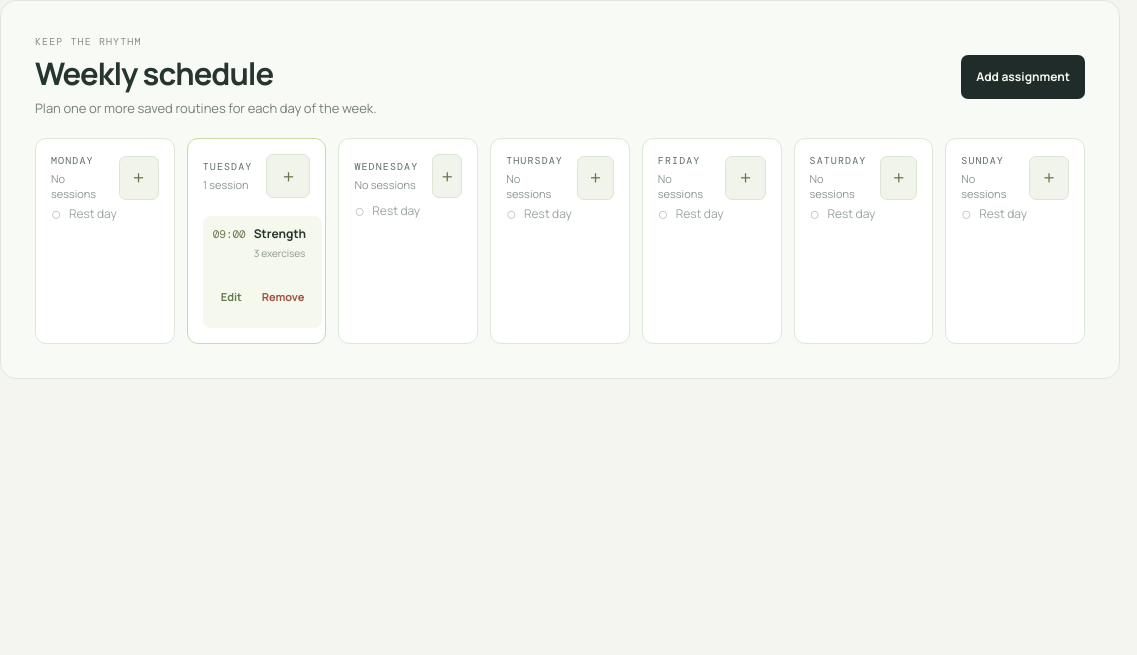
ScheduleEditor › edits an existing assignment without creating a second entry
Click the button with aria-label "Edit Tuesday assignment".
click(231, 296)  # box [213,274,250,318]
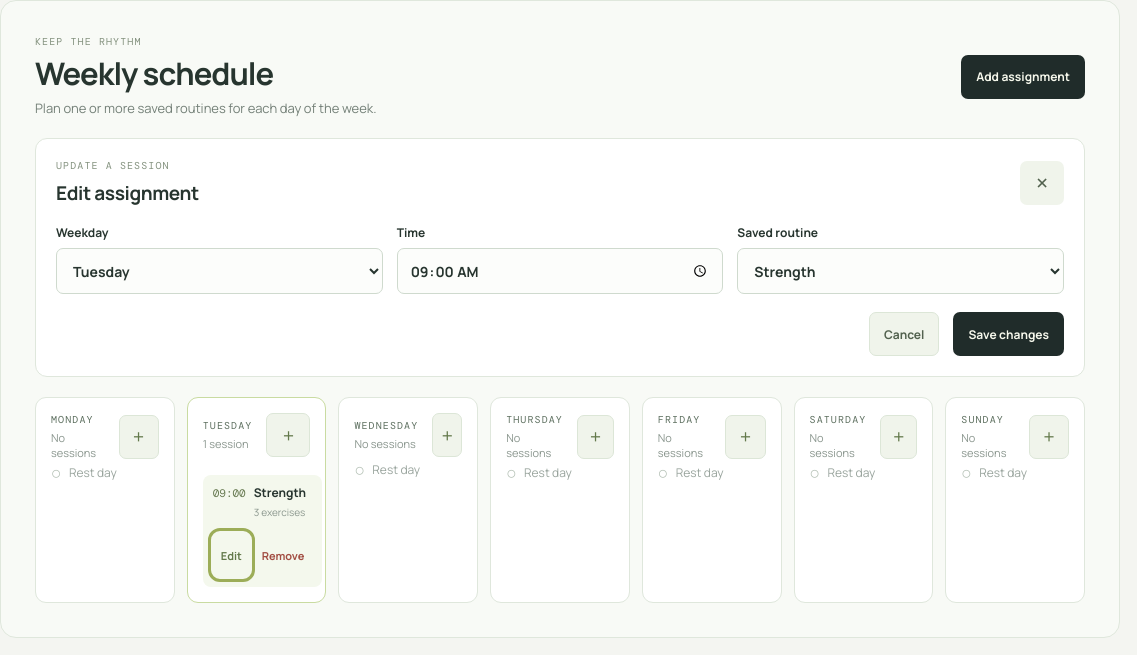
Replace the text in the time field labelled "Time" with "20:15" at (560, 271), box [397,248,723,294]
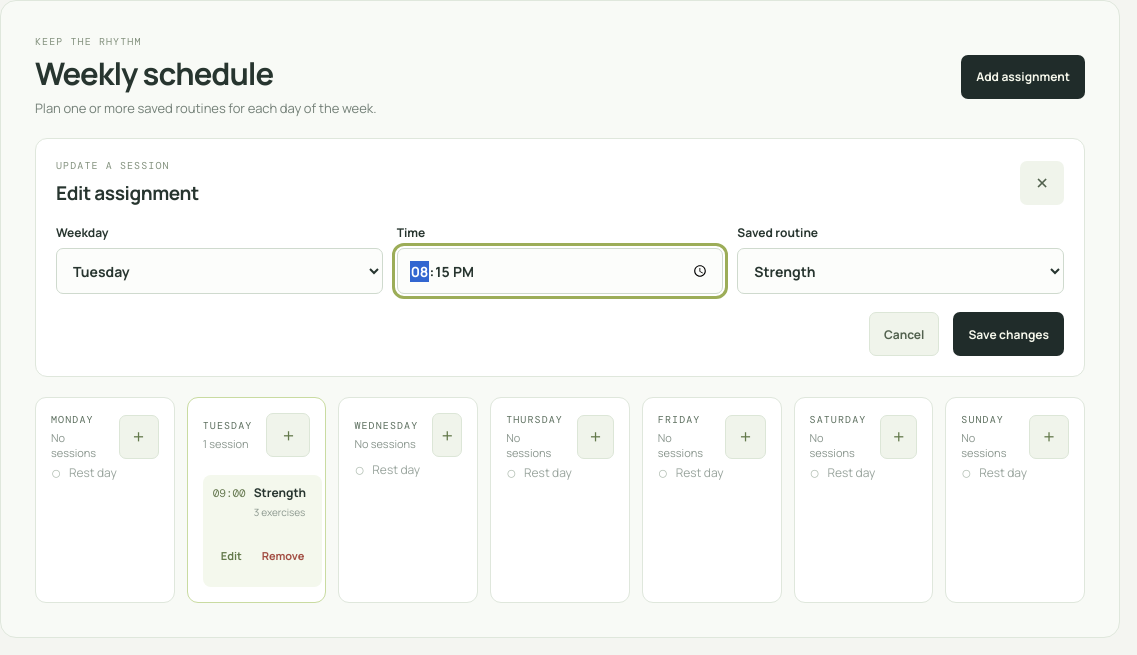
Select "Mobility" in the dropdown labelled "Saved routine" at (901, 271), box [737,248,1064,294]
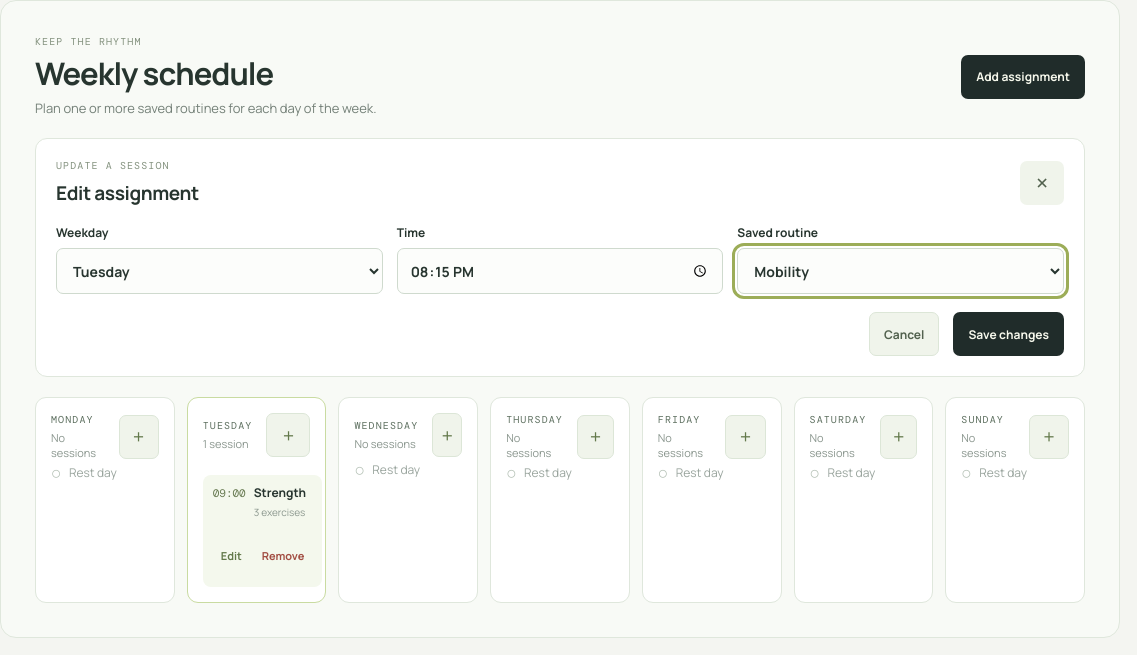
Click the button "Save changes".
click(1009, 334)  # box [954,312,1064,356]
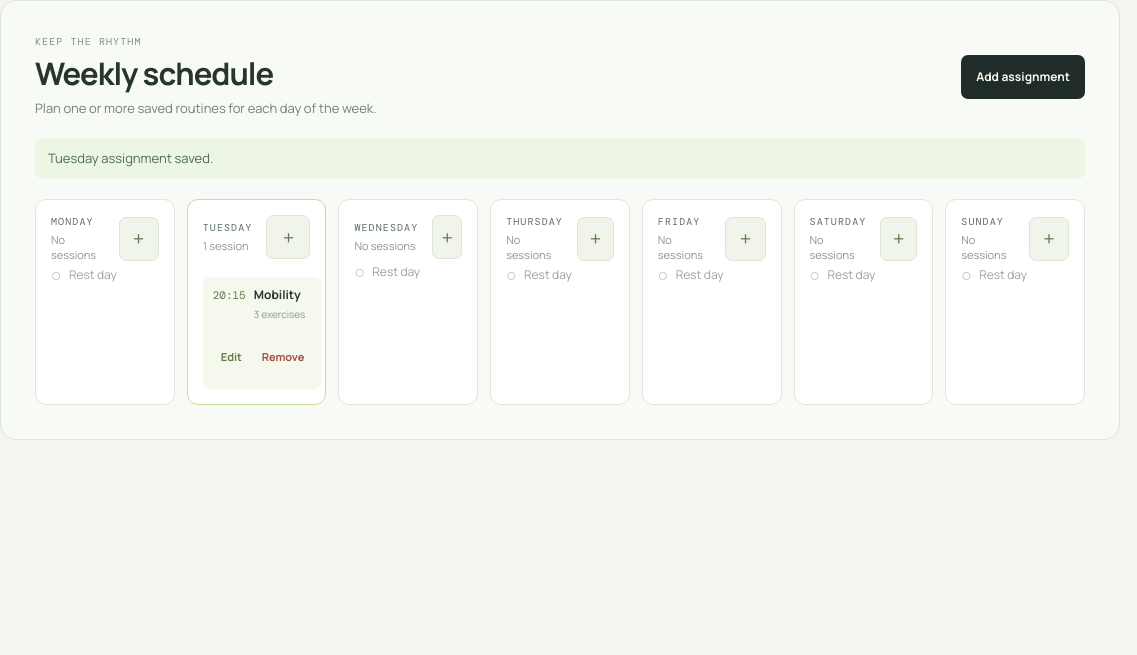
Expected: the text "Mobility" is shown, [254,287,305,304]
